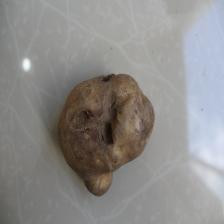Diseased-fungal potato: (56, 71, 156, 196)
